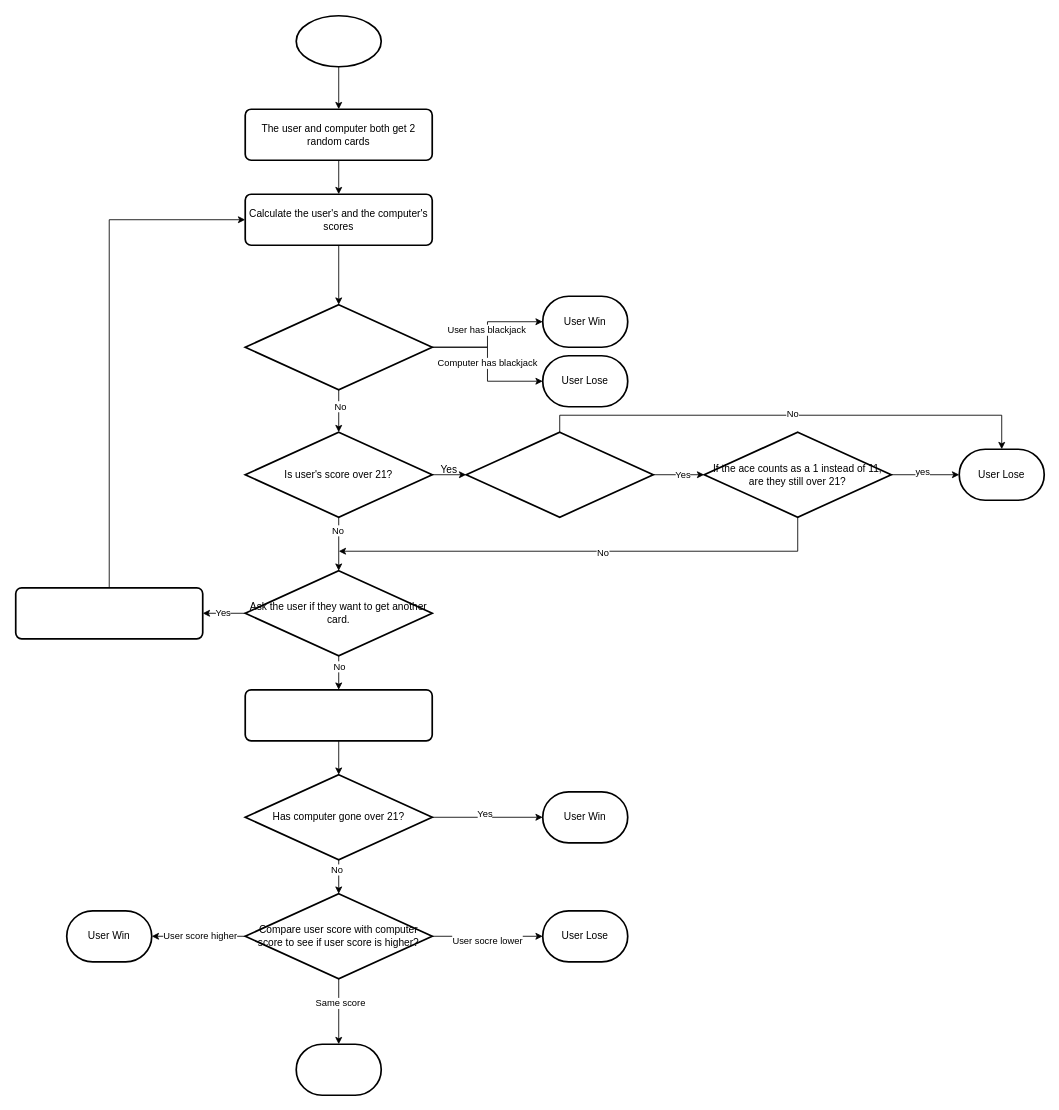
The diagram is 1059 pixels wide and 1110 high, and some of its shapes have lost their labels. Here are the shapes that lost their labels. From the top down, the centre of each, then its label:
point (338, 40): START
point (338, 346): Does the user or computer have a blackjack? (score = 21 and two cards)
point (559, 474): Do they have an "Ace"?
point (108, 612): Draw another card
point (338, 714): Computer plays, if score is less than 17, keep drawing cards.
point (338, 1069): Draw
